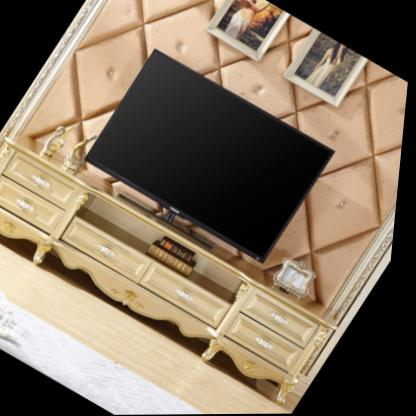Carpet: (0, 284, 216, 415)
TV stand: (0, 116, 365, 408)
